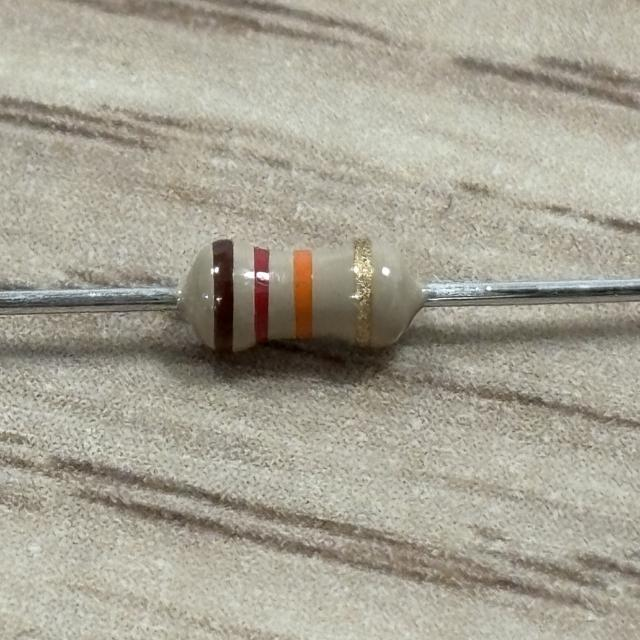resistor: (194, 232, 416, 362)
